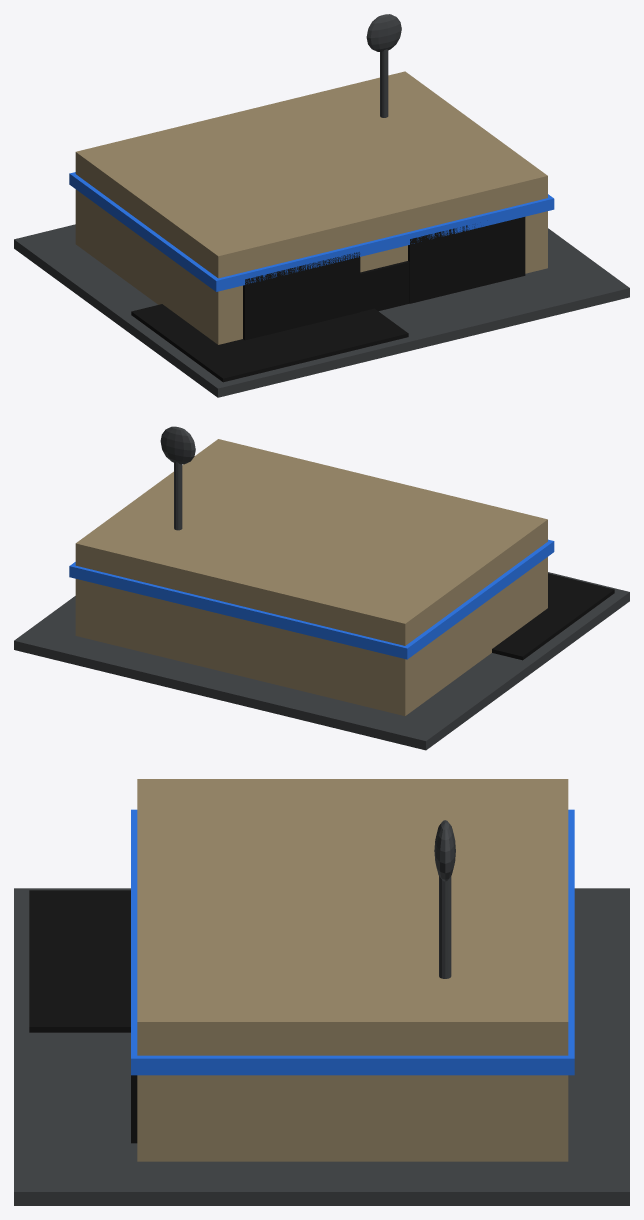
The model's file is ae_airbase.glb.
The picture shows the model from 3 angles, top to bottom: view 1: azimuth 30°, elevation 25°; view 2: azimuth 150°, elevation 25°; view 3: azimuth 270°, elevation 25°; orthographic projection. The views are drawn at different scales.
Visible parts, largest first — view 1: main, base, pad, garage_1, garage_0, team_band, door, dish, mast; view 2: main, base, team_band, pad, dish, mast; view 3: main, base, pad, team_band, mast, dish.
Boxes of the visible parts, left/top/right/bottom form: main: left=75, top=71, right=547, bottom=344; base: left=14, top=224, right=629, bottom=397; pad: left=131, top=304, right=408, bottom=382; garage_1: left=408, top=217, right=525, bottom=303; garage_0: left=243, top=252, right=360, bottom=340; team_band: left=69, top=172, right=554, bottom=291; door: left=360, top=261, right=409, bottom=311; dish: left=366, top=14, right=401, bottom=51; mast: left=380, top=49, right=388, bottom=117; main: left=75, top=439, right=547, bottom=715; base: left=14, top=572, right=629, bottom=750; team_band: left=69, top=539, right=554, bottom=659; pad: left=492, top=573, right=614, bottom=660; dish: left=160, top=426, right=195, bottom=464; mast: left=174, top=461, right=182, bottom=530; main: left=137, top=779, right=568, bottom=1161; base: left=14, top=888, right=629, bottom=1205; pad: left=29, top=890, right=130, bottom=1032; team_band: left=131, top=809, right=574, bottom=1075; mast: left=439, top=876, right=451, bottom=978; dish: left=434, top=820, right=455, bottom=881.
Size of the model in its own units: 14 by 6.6 by 12.
